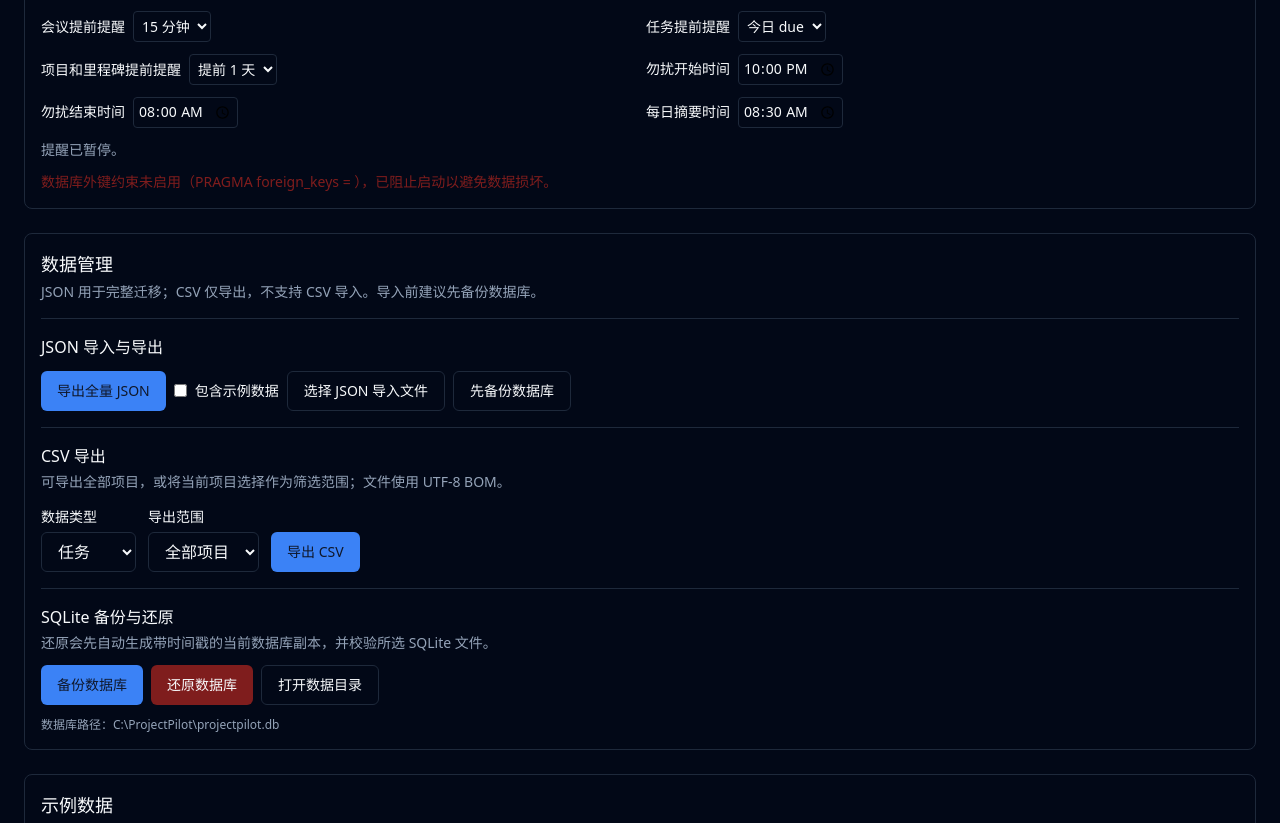
Test: SettingsPage 数据交换验收 › 非法导入以中文错误状态渲染且不写库
(page scrolled)
Step 1. Click the button "选择 JSON 导入文件" → x=366, y=391, box [287,371,445,411]
(page scrolled)
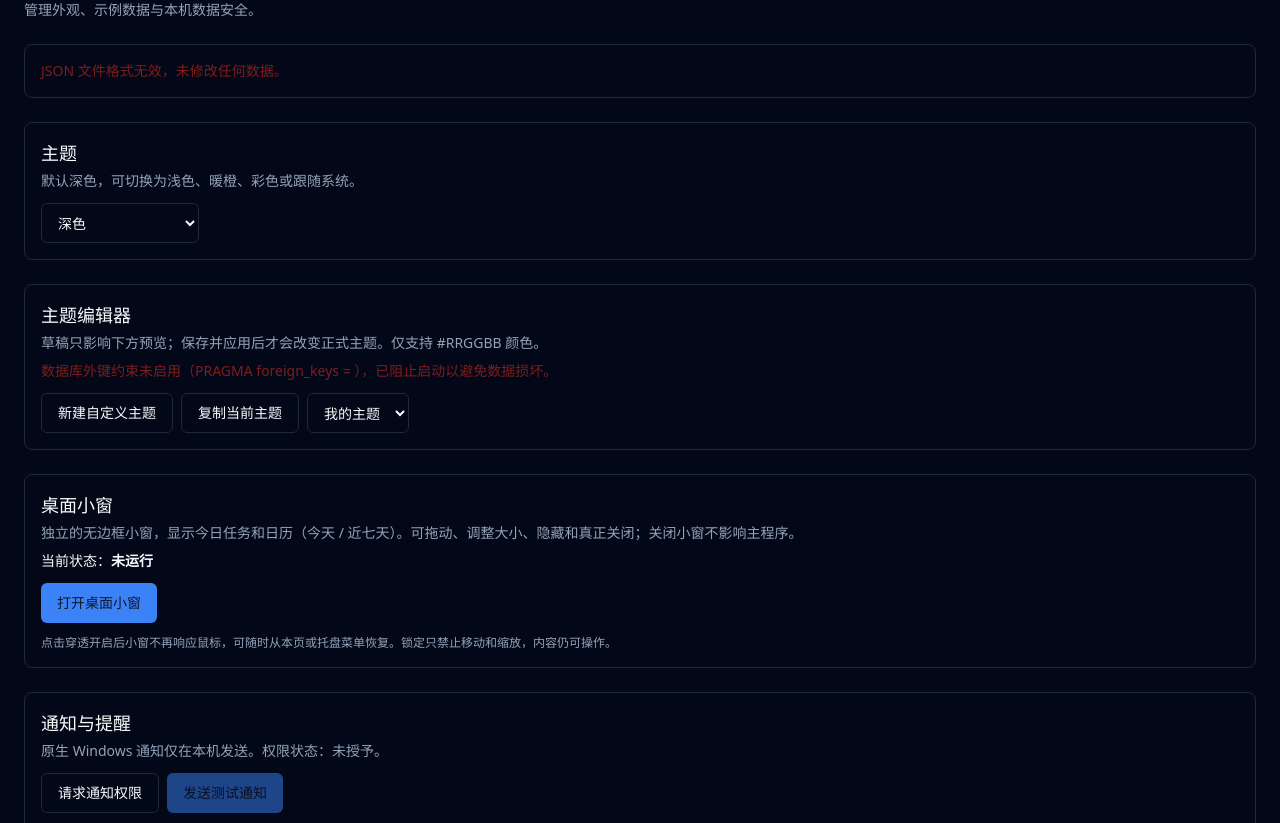
Expected: the text "JSON 文件格式无效，未修改任何数据。" is shown, [41,61,288,80]
